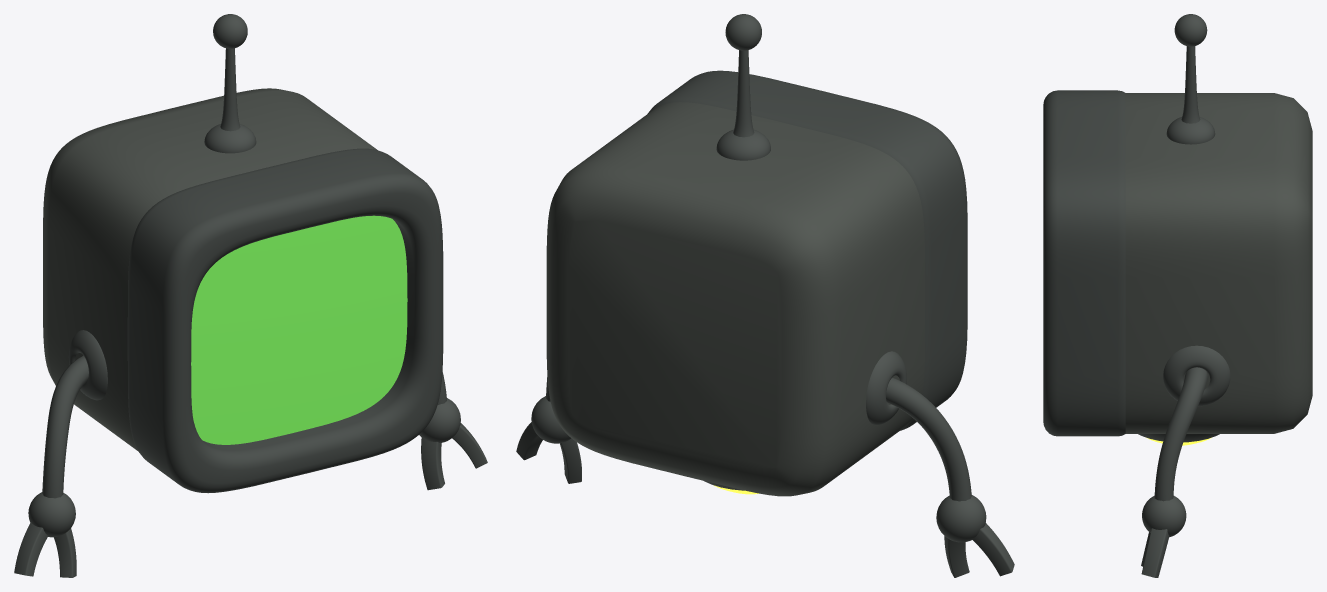
3 views of the same model, side by side, from view 1: azimuth 30°, elevation 25°; view 2: azimuth 150°, elevation 25°; view 3: azimuth 270°, elevation 25° (orthographic). The views are drawn at different scales.
Parts seen in each view (by area): view 1: TO_Case_Front, TO_Screen, TO_Case_Shell, TO_Arm_L, TO_Shoulder_L, TO_Wrist_L, TO_Antenna_Socket, TO_Wrist_R, TO_Antenna_Shaft, TO_Claw_L_B, TO_Claw_R_B, TO_Antenna_Bulb (+2 smaller); view 2: TO_Case_Shell, TO_Case_Front, TO_Arm_L, TO_Shoulder_L, TO_Wrist_L, TO_Antenna_Socket, TO_Antenna_Shaft, TO_Antenna_Bulb, TO_Wrist_R, TO_Claw_L_B, TO_Claw_R_B, TO_Claw_L_A; view 3: TO_Case_Shell, TO_Case_Front, TO_Arm_R, TO_Shoulder_R, TO_Wrist_R, TO_Antenna_Socket, TO_Antenna_Shaft, TO_Claw_R_A, TO_Antenna_Bulb.
Boxes of the visible parts, box(x1,y1,x2,y2) form: TO_Case_Front: box(127, 148, 443, 493); TO_Screen: box(191, 215, 407, 444); TO_Case_Shell: box(43, 88, 377, 451); TO_Arm_L: box(42, 356, 88, 498); TO_Shoulder_L: box(68, 330, 107, 400); TO_Wrist_L: box(28, 492, 75, 537); TO_Antenna_Socket: box(204, 124, 256, 153); TO_Wrist_R: box(419, 398, 460, 442); TO_Antenna_Shaft: box(220, 48, 240, 131); TO_Claw_L_B: box(14, 522, 48, 576); TO_Claw_R_B: box(421, 437, 444, 490); TO_Antenna_Bulb: box(213, 14, 247, 48); TO_Case_Shell: box(546, 102, 924, 496); TO_Case_Front: box(647, 70, 967, 430); TO_Arm_L: box(886, 377, 971, 501); TO_Shoulder_L: box(866, 351, 906, 425); TO_Wrist_L: box(936, 495, 986, 542); TO_Antenna_Socket: box(716, 129, 770, 160); TO_Antenna_Shaft: box(733, 50, 754, 137); TO_Antenna_Bulb: box(725, 14, 761, 50); TO_Wrist_R: box(531, 396, 571, 443); TO_Claw_L_B: box(972, 523, 1014, 576); TO_Claw_R_B: box(559, 438, 581, 483); TO_Claw_L_A: box(944, 536, 969, 577); TO_Case_Shell: box(1125, 93, 1312, 433); TO_Case_Front: box(1043, 90, 1125, 436); TO_Arm_R: box(1154, 367, 1208, 501); TO_Shoulder_R: box(1163, 345, 1230, 406); TO_Wrist_R: box(1142, 495, 1186, 536); TO_Antenna_Socket: box(1166, 117, 1215, 144); TO_Antenna_Shaft: box(1181, 46, 1200, 123); TO_Claw_R_A: box(1141, 528, 1169, 577); TO_Antenna_Bulb: box(1174, 14, 1207, 46).
Size of the model in its own units: 1.71 by 1.75 by 0.907.
